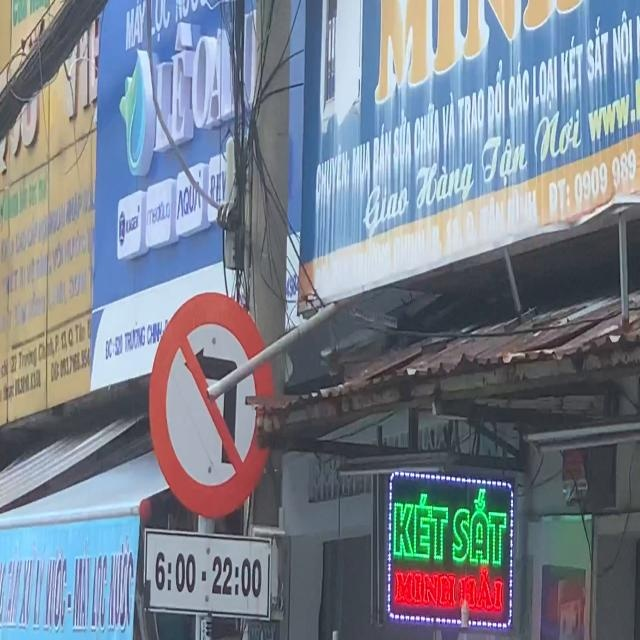bien_cam: (148, 291, 275, 519)
